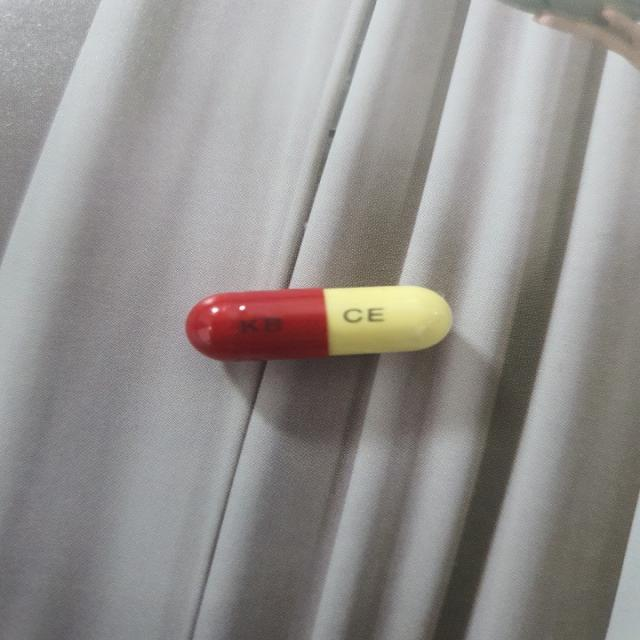pill: (178, 273, 462, 370)
